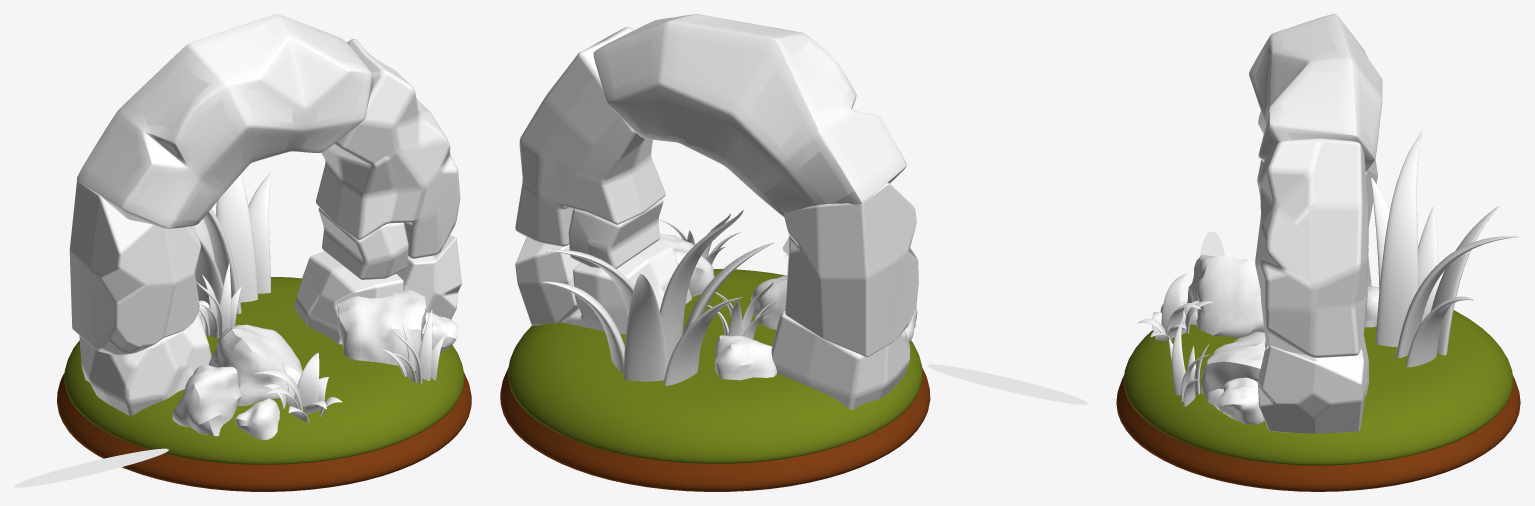
Rendered from Stone archway.glb.
The picture shows the model from 3 angles, left to right: view 1: azimuth 30°, elevation 25°; view 2: azimuth 150°, elevation 25°; view 3: azimuth 270°, elevation 25°; orthographic projection. The views are drawn at different scales.
Visible parts, largest first — view 1: Merged_0, Plane083, Plane082; view 2: Merged_0, Plane083, Plane082; view 3: Merged_0, Plane083, Plane082.
Part boxes in pixels (x1,y1,x2,y2): Merged_0: (14,14,461,487); Plane083: (64,277,464,464); Plane082: (57,372,471,491); Merged_0: (515,14,1087,409); Plane083: (508,269,922,463); Plane082: (500,368,930,491); Merged_0: (1137,14,1517,433); Plane083: (1123,286,1513,465); Plane082: (1116,375,1520,491).
Bounding box in the file's own units: 1 × 0.742 × 0.7428.
